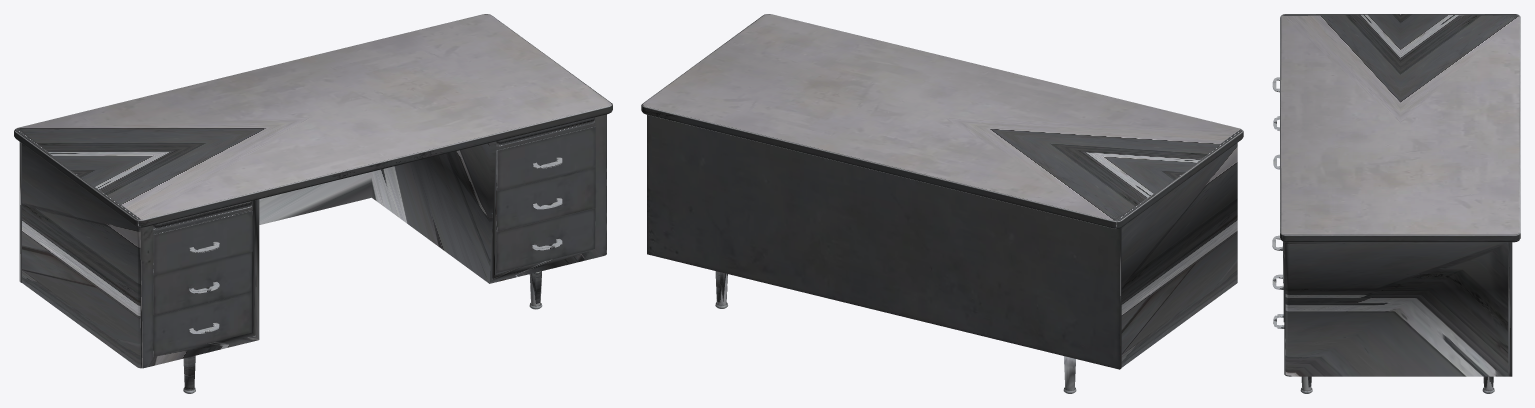
File: metal_office_desk.glb
The picture shows the model from 3 angles, left to right: view 1: azimuth 30°, elevation 25°; view 2: azimuth 150°, elevation 25°; view 3: azimuth 270°, elevation 25°; orthographic projection. The views are drawn at different scales.
Visible parts, largest first — view 1: metal_office_desk, metal_office_desk_drawer_04, metal_office_desk_drawer_01, metal_office_desk_drawer_02, metal_office_desk_drawer_03, metal_office_desk_drawer_06, metal_office_desk_drawer_05, metal_office_desk_tray_01, metal_office_desk_tray_02; view 2: metal_office_desk; view 3: metal_office_desk.
Boxes of the visible parts, left/top/right/bottom form: metal_office_desk: left=14, top=14, right=612, bottom=393; metal_office_desk_drawer_04: left=153, top=210, right=252, bottom=275; metal_office_desk_drawer_01: left=496, top=126, right=595, bottom=191; metal_office_desk_drawer_02: left=496, top=167, right=595, bottom=231; metal_office_desk_drawer_03: left=496, top=208, right=594, bottom=272; metal_office_desk_drawer_06: left=153, top=292, right=251, bottom=356; metal_office_desk_drawer_05: left=153, top=252, right=251, bottom=315; metal_office_desk_tray_01: left=153, top=201, right=251, bottom=230; metal_office_desk_tray_02: left=496, top=117, right=594, bottom=146; metal_office_desk: left=641, top=14, right=1243, bottom=393; metal_office_desk: left=1280, top=14, right=1520, bottom=393.
Size of the model in its own units: 2 by 0.7874 by 0.947.
1 material, 1 textured.
